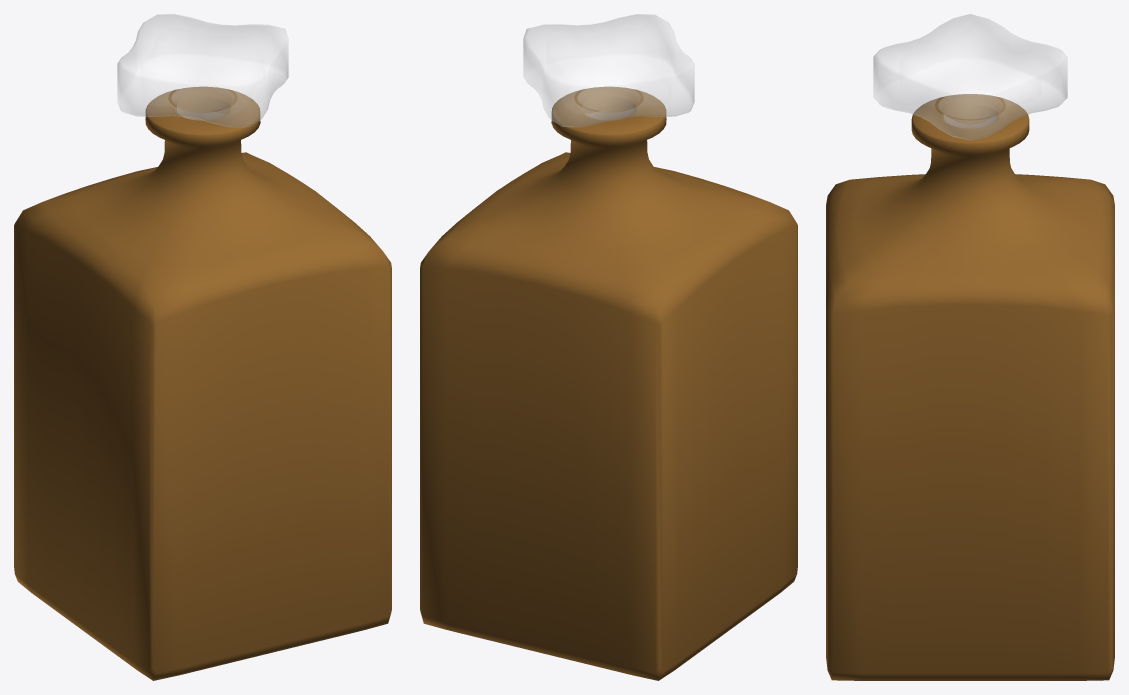
The model's file is glass.glb.
The picture shows the model from 3 angles, left to right: view 1: azimuth 30°, elevation 25°; view 2: azimuth 150°, elevation 25°; view 3: azimuth 270°, elevation 25°; orthographic projection. The views are drawn at different scales.
Parts seen in each view (by area): view 1: Object_5, Object_2; view 2: Object_5, Object_2; view 3: Object_5, Object_2.
Boxes of the visible parts, left/top/right/bottom form: Object_5: left=14, top=86, right=391, bottom=680; Object_2: left=117, top=14, right=288, bottom=126; Object_5: left=420, top=86, right=797, bottom=680; Object_2: left=523, top=14, right=694, bottom=126; Object_5: left=826, top=94, right=1114, bottom=680; Object_2: left=873, top=14, right=1067, bottom=140.
Bounding box in the file's own units: 2 × 4.37 × 2.
Materials: 4 (1 with a texture image).
